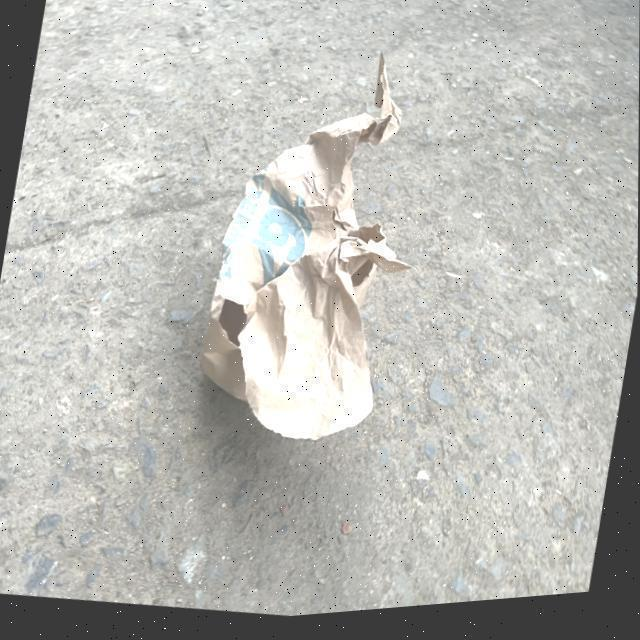Paper_Bag: (190, 36, 444, 465)
